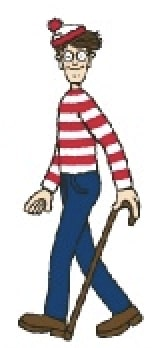Waldo: (6, 10, 148, 339)
